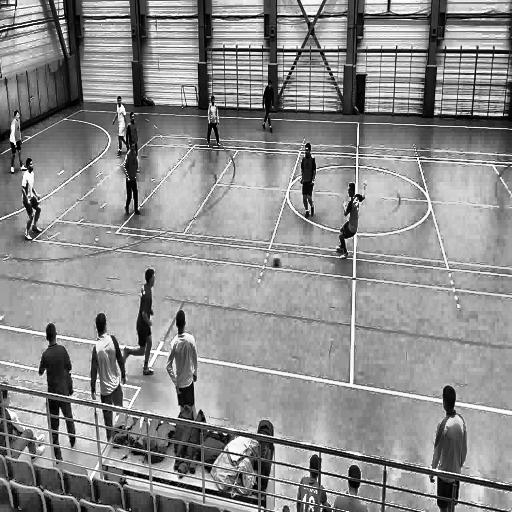ball: (272, 253, 282, 270)
player: (38, 319, 77, 460), (428, 382, 467, 512), (90, 311, 126, 426), (123, 266, 158, 380), (167, 312, 200, 418), (334, 185, 368, 267), (20, 157, 42, 243), (123, 140, 144, 218), (8, 109, 28, 175), (300, 145, 317, 220), (111, 94, 130, 154), (203, 94, 222, 149), (126, 112, 141, 174), (260, 80, 276, 136)
